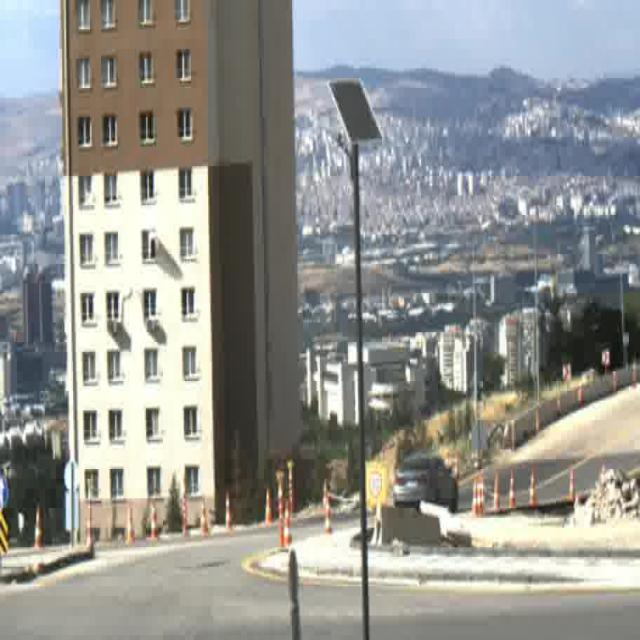Car: (394, 457, 460, 512)
